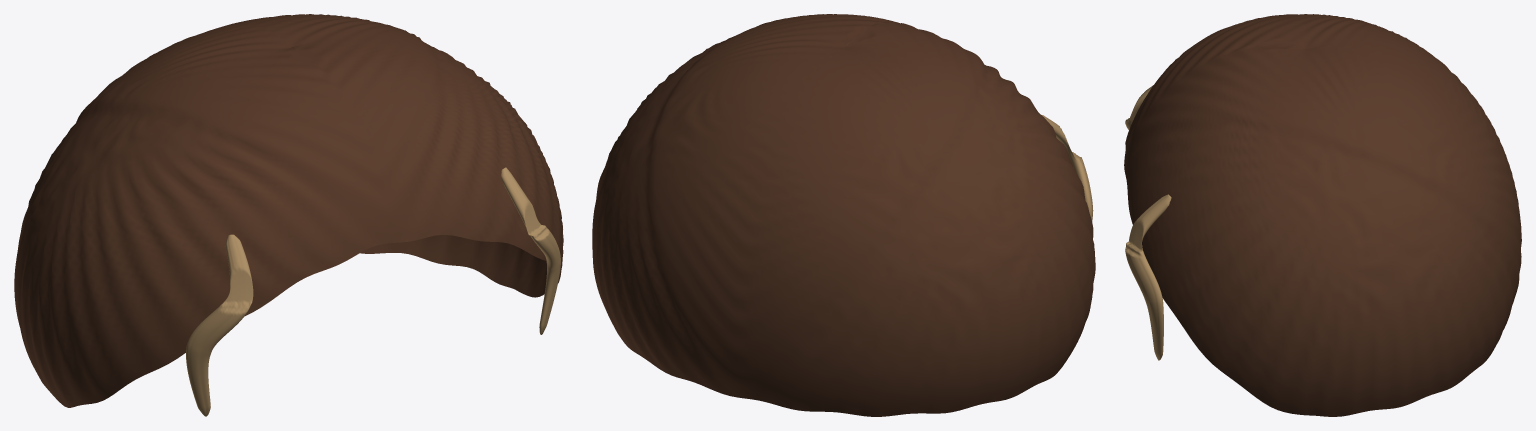
File: Highlights-d72fbe7a2077251-hair.glb
3 renders of one model, left to right at view 1: azimuth 30°, elevation 25°; view 2: azimuth 150°, elevation 25°; view 3: azimuth 270°, elevation 25°, orthographic. The views are drawn at different scales.
Visible parts, largest first — view 1: 226 hair / Hair / chestnut226.002; view 2: 226 hair / Hair / chestnut226.002; view 3: 226 hair / Hair / chestnut226.002.
Boxes of the visible parts, box(x1,y1,x2,y2) form: 226 hair / Hair / chestnut226.002: box(14, 14, 563, 416); 226 hair / Hair / chestnut226.002: box(592, 14, 1095, 416); 226 hair / Hair / chestnut226.002: box(1124, 14, 1521, 416).
Size of the model in its own units: 0.9988 by 0.5983 by 0.7845.
